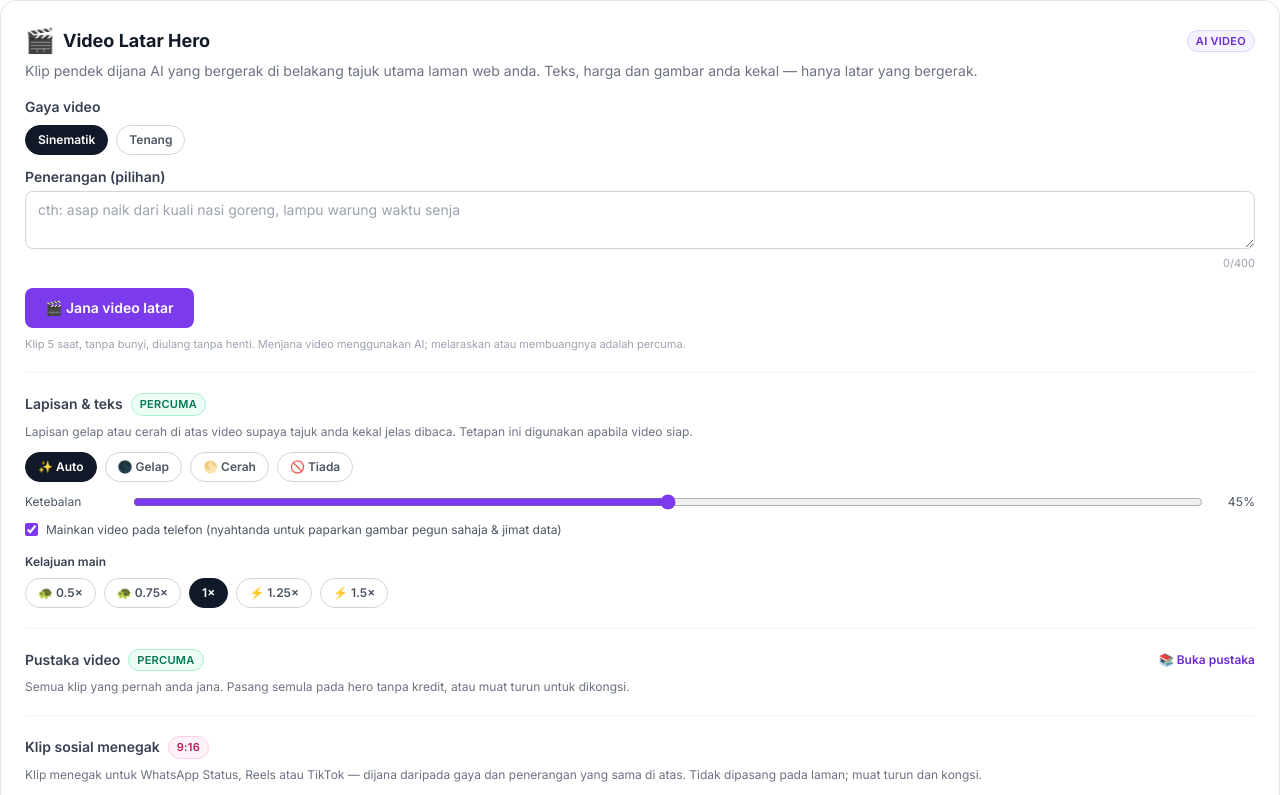
Test: HeroVideoPanel › shows a Malay error when the job fails and leaves the page alone
Click the button with test id "generate-hero-video" at x=109, y=308, box [25, 288, 194, 328]
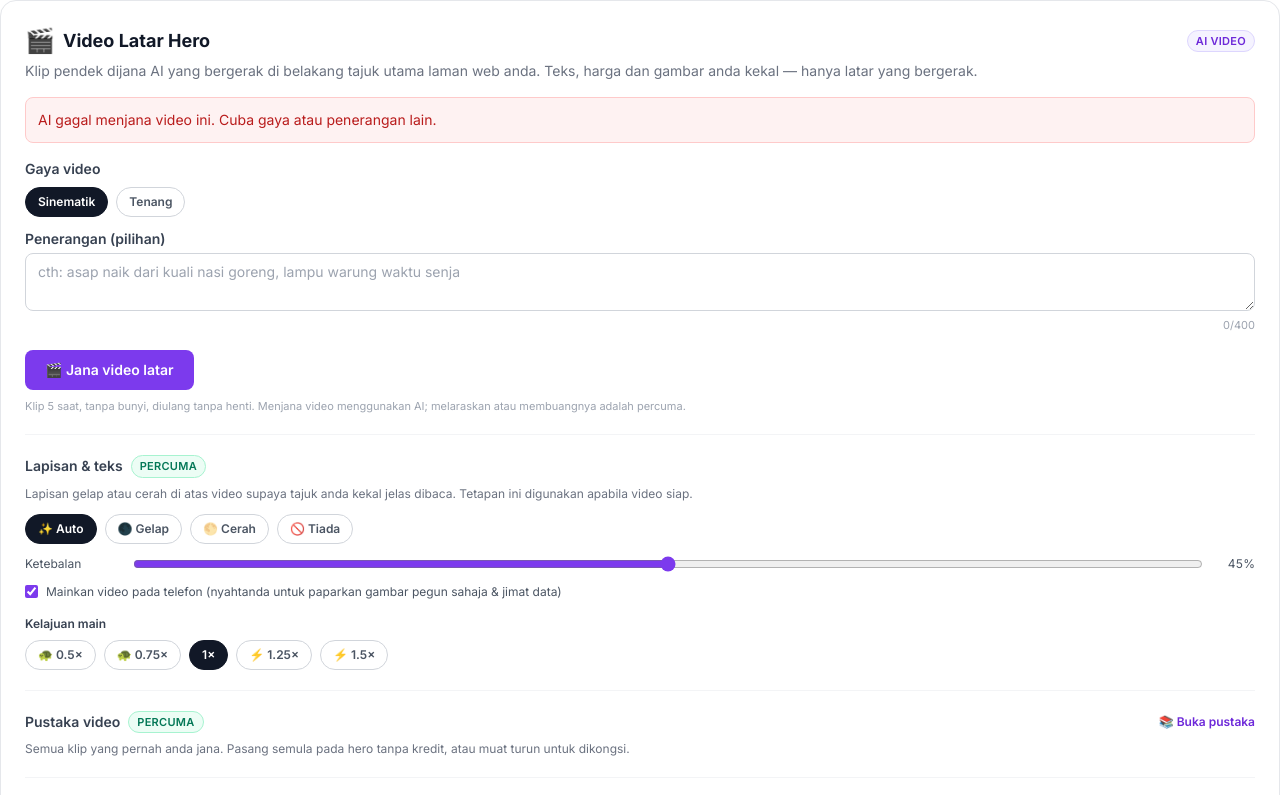
expect the text "AI gagal menjana video ini. Cuba gaya atau penerangan lain." is shown: met, box [25, 97, 1255, 143]
